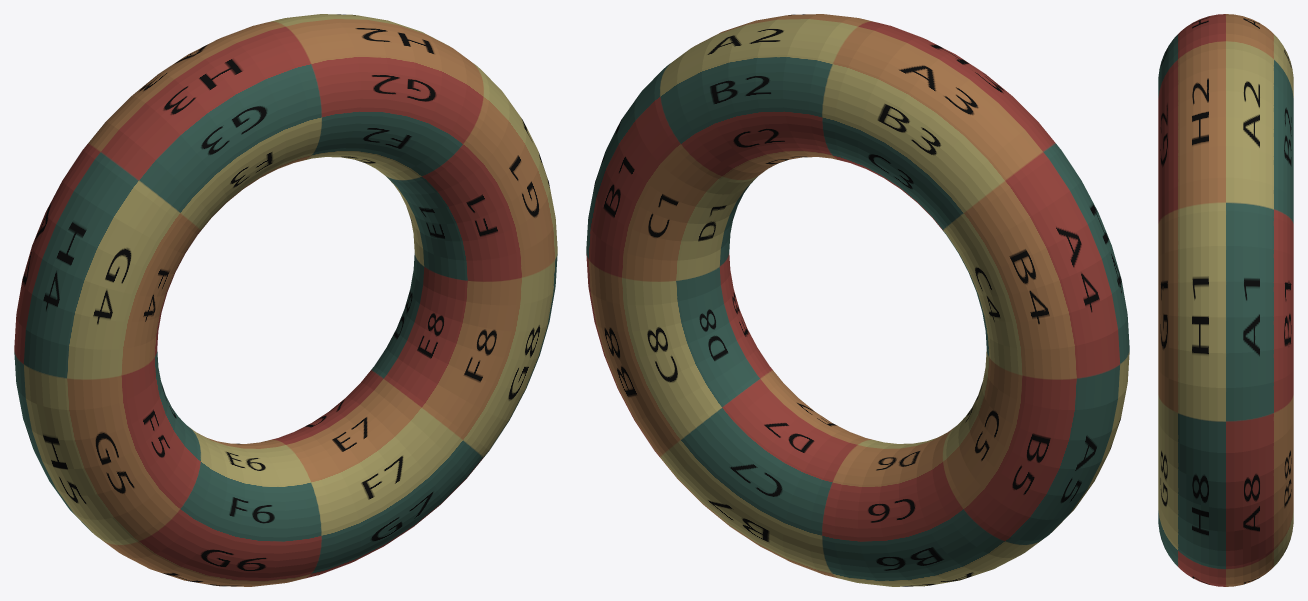
The model's file is texture_torus_R27_r25.glb.
3 renders of one model, left to right at view 1: azimuth 30°, elevation 25°; view 2: azimuth 150°, elevation 25°; view 3: azimuth 270°, elevation 25°, orthographic. The views are drawn at different scales.
Parts seen in each view (by area): view 1: world; view 2: world; view 3: world.
Part boxes in pixels (box(x1,y1,x2,y2)): world: box(14, 14, 557, 586); world: box(586, 14, 1129, 586); world: box(1158, 14, 1293, 586).
Bounding box in the file's own units: 36.67 × 36.59 × 8.65.
1 material, 1 textured.
